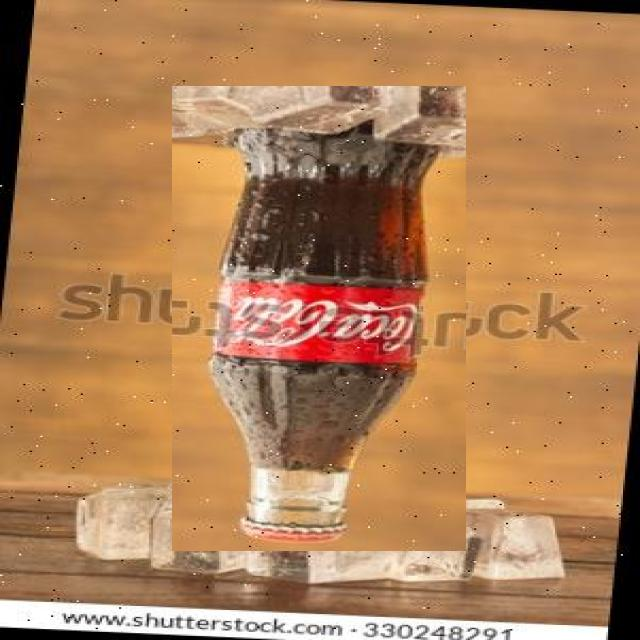coca-cola: (172, 86, 466, 551)
